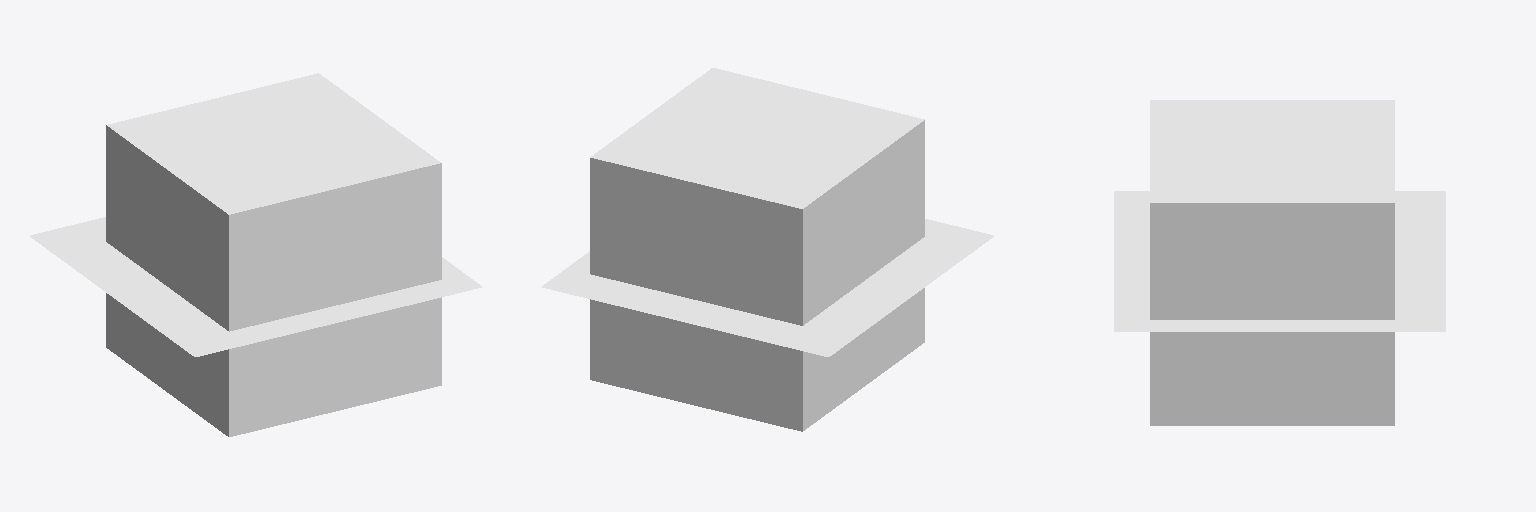
Rendered from blender_open.obj.
3 renders of one model, left to right at view 1: azimuth 30°, elevation 25°; view 2: azimuth 150°, elevation 25°; view 3: azimuth 270°, elevation 25°, orthographic.
Parts seen in each view (by area): view 1: Cube_Cube.001, Plane; view 2: Cube_Cube.001, Plane; view 3: Cube_Cube.001, Plane.
Boxes of the visible parts, <box> form: Cube_Cube.001: <box>106,73,441,436</box>; Plane: <box>30,217,481,356</box>; Cube_Cube.001: <box>590,68,924,431</box>; Plane: <box>542,219,993,356</box>; Cube_Cube.001: <box>1150,100,1394,425</box>; Plane: <box>1114,191,1445,331</box>.
Bounding box in the file's own units: 69.18 × 51.03 × 69.18.